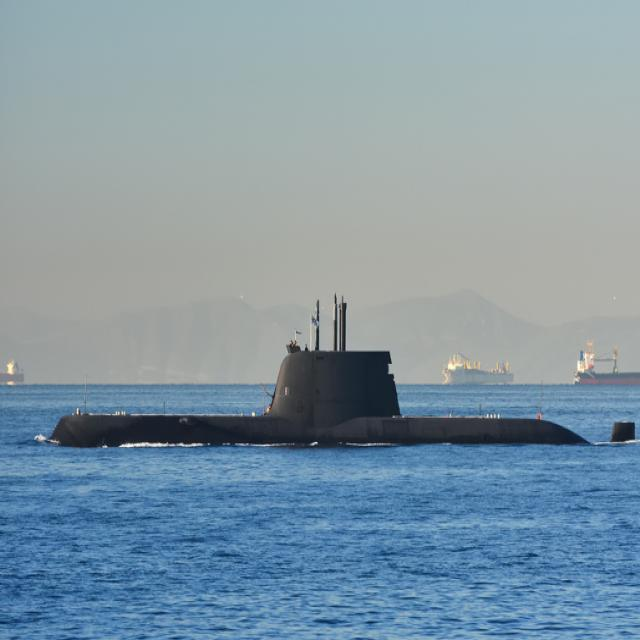submarine: (38, 293, 635, 448)
